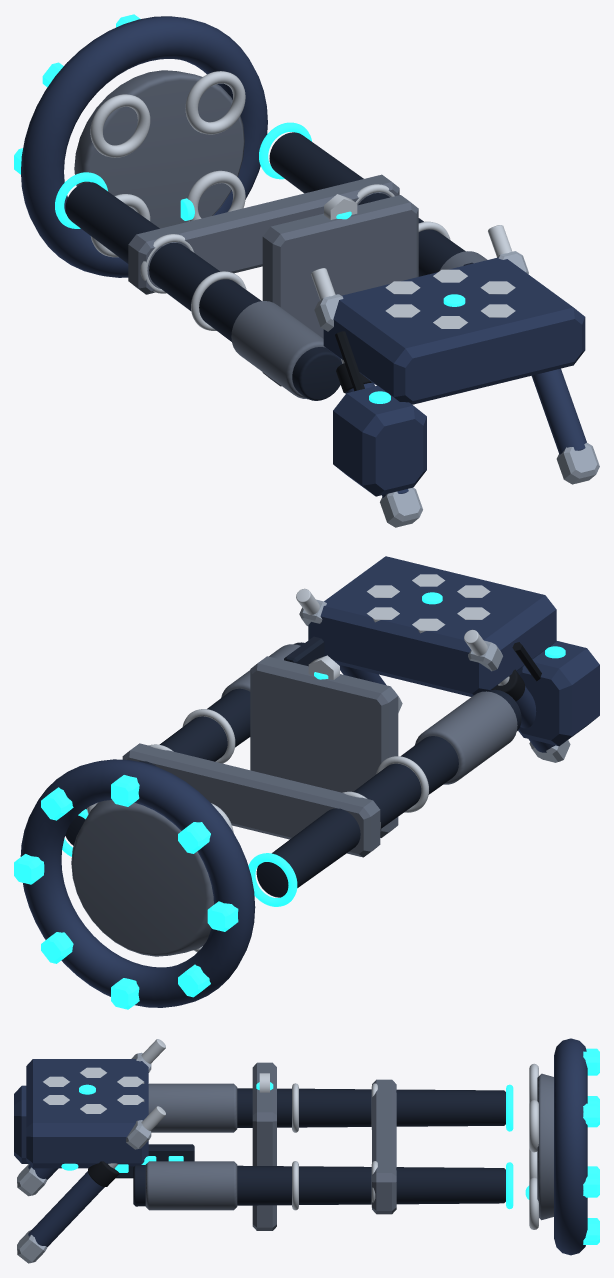
Rendered from tower_skywatch_damage_s9.glb.
The picture shows the model from 3 angles, top to bottom: view 1: azimuth 30°, elevation 25°; view 2: azimuth 150°, elevation 25°; view 3: azimuth 270°, elevation 25°; orthographic projection. The views are drawn at different scales.
Visible parts, largest first — view 1: skywatch_housing_armour, skywatch_fuse_ring, skywatch_fuse_collar, skywatch_barrel_clamp_b, skywatch_barrel_b_r, skywatch_barrel_b_clamp, skywatch_fuse_programmer, skywatch_barrel_b_l, skywatch_barrel_b_jacket_r, skywatch_damper_l_body, skywatch_armour_bolts, skywatch_crown1 (+8 smaller); view 2: skywatch_fuse_ring, skywatch_housing_armour, skywatch_fuse_collar, skywatch_barrel_clamp_b, skywatch_barrel_b_clamp, skywatch_barrel_b_r, skywatch_fuse_programmer, skywatch_barrel_b_jacket_r, skywatch_barrel_b_l, skywatch_armour_bolts, skywatch_barrel_b_crown0.3, skywatch_fuse_node0 (+12 smaller); view 3: skywatch_housing_armour, skywatch_barrel_b_l, skywatch_barrel_b_r, skywatch_fuse_ring, skywatch_barrel_b_jacket_l, skywatch_barrel_b_jacket_r, skywatch_barrel_b_clamp, skywatch_barrel_clamp_b, skywatch_fuse_collar, skywatch_damper_l_body, skywatch_armour_bolts, skywatch_fuse_programmer (+18 smaller).
Boxes of the visible parts, x1,y1,x2,y2 form: skywatch_housing_armour: [323, 257, 585, 404]; skywatch_fuse_ring: [21, 16, 267, 277]; skywatch_fuse_collar: [74, 70, 244, 228]; skywatch_barrel_clamp_b: [262, 195, 418, 386]; skywatch_barrel_b_r: [65, 182, 342, 400]; skywatch_barrel_b_clamp: [128, 174, 399, 294]; skywatch_fuse_programmer: [333, 385, 426, 496]; skywatch_barrel_b_l: [269, 132, 465, 276]; skywatch_barrel_b_jacket_r: [231, 301, 325, 399]; skywatch_damper_l_body: [531, 368, 586, 454]; skywatch_armour_bolts: [385, 269, 515, 328]; skywatch_crown1: [185, 71, 245, 134]; skywatch_fuse_ring: [20, 759, 255, 1007]; skywatch_housing_armour: [308, 556, 556, 696]; skywatch_fuse_collar: [71, 800, 213, 956]; skywatch_barrel_clamp_b: [250, 656, 398, 837]; skywatch_barrel_b_clamp: [122, 743, 380, 857]; skywatch_barrel_b_r: [256, 689, 521, 897]; skywatch_fuse_programmer: [517, 641, 599, 746]; skywatch_barrel_b_jacket_r: [414, 691, 517, 784]; skywatch_barrel_b_l: [65, 642, 304, 845]; skywatch_armour_bolts: [366, 574, 490, 633]; skywatch_barrel_b_crown0.3: [248, 853, 297, 906]; skywatch_fuse_node0: [207, 901, 238, 931]; skywatch_housing_armour: [26, 1059, 148, 1168]; skywatch_barrel_b_l: [133, 1165, 505, 1206]; skywatch_barrel_b_r: [237, 1088, 505, 1127]; skywatch_fuse_ring: [554, 1038, 587, 1255]; skywatch_barrel_b_jacket_l: [145, 1161, 237, 1210]; skywatch_barrel_b_jacket_r: [148, 1083, 237, 1132]; skywatch_barrel_b_clamp: [372, 1079, 396, 1214]; skywatch_barrel_clamp_b: [252, 1062, 276, 1230]; skywatch_fuse_collar: [537, 1073, 553, 1220]; skywatch_damper_l_body: [28, 1171, 104, 1246]; skywatch_armour_bolts: [43, 1067, 144, 1113]; skywatch_fuse_programmer: [14, 1085, 28, 1163].
Bounding box in the file's own units: 0.7796 × 0.71 × 1.92.
